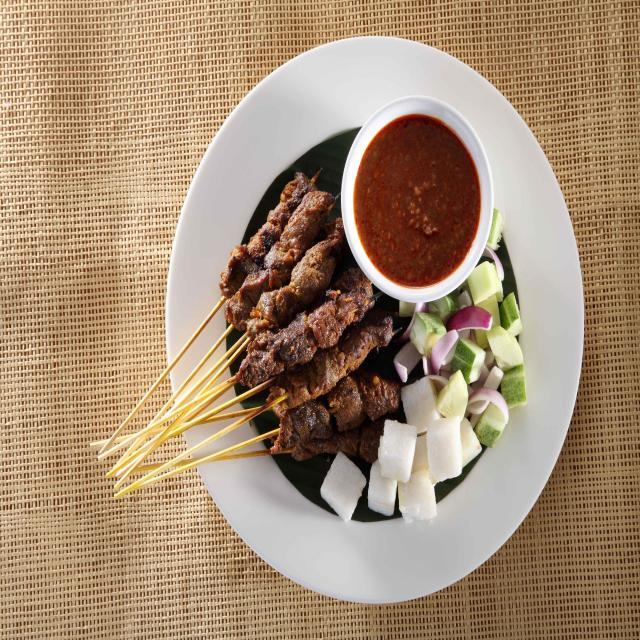Sate: (63, 124, 426, 526)
